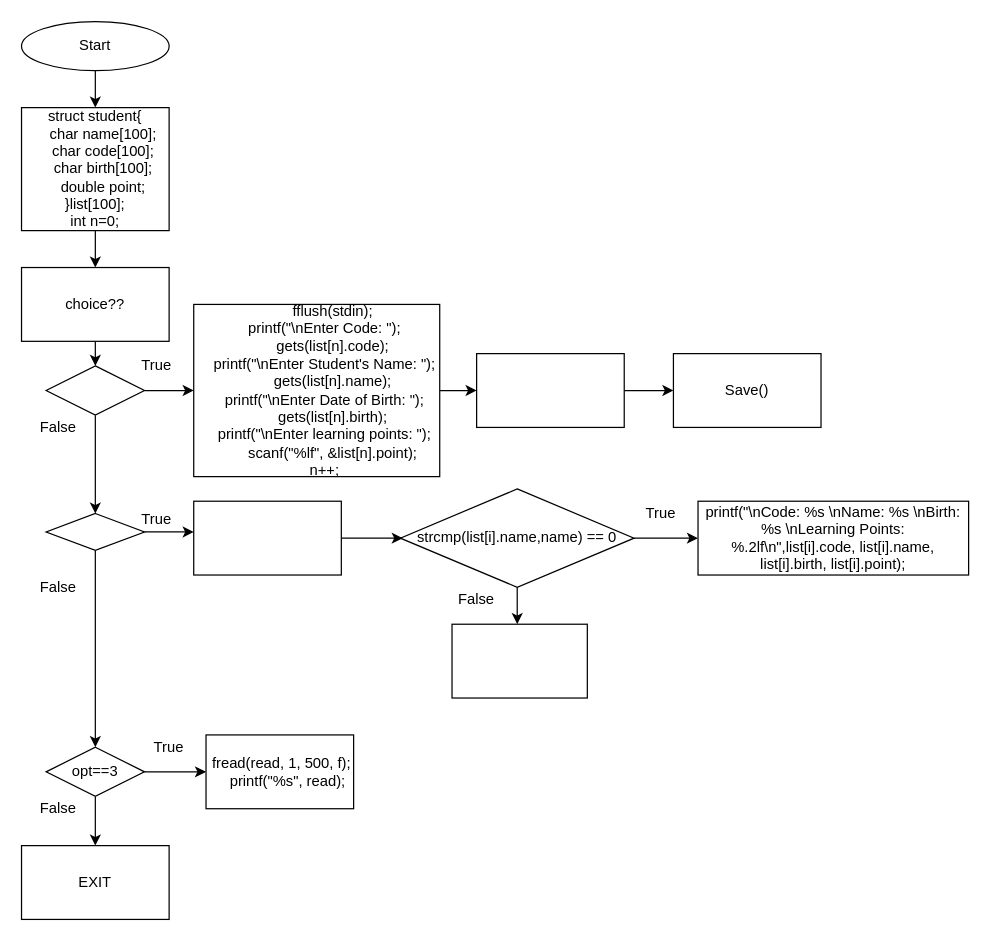
This 990x941 diagram has some shape labels left out. The shapes that lost their labels are listed below. From the top down, each one's box as (x1, y1, x2, y2) in pixels, then its label:
(45, 365, 145, 415): opt==1
(475, 352, 624, 427): Sort()
(45, 512, 145, 550): opt==2
(192, 500, 341, 575): gets(name);
(451, 623, 587, 698): printf("\nUnknow student!!")
